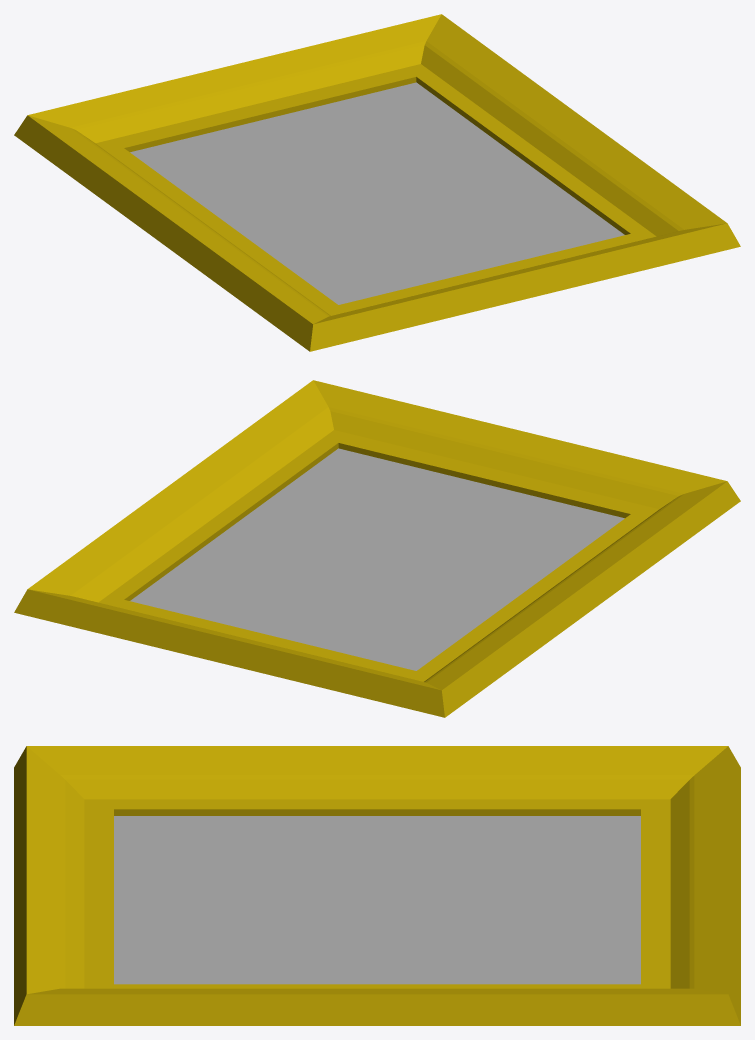
File: marco.fbx
3 renders of one model, top to bottom at view 1: azimuth 30°, elevation 25°; view 2: azimuth 150°, elevation 25°; view 3: azimuth 270°, elevation 25°, orthographic. The views are drawn at different scales.
Parts seen in each view (by area): view 1: pPlane1; view 2: pPlane1; view 3: pPlane1.
Part boxes in pixels (x1,y1,x2,y2): pPlane1: [14, 14, 740, 351]; pPlane1: [14, 380, 740, 717]; pPlane1: [14, 746, 740, 1025].
Size of the model in its own units: 1.47 by 0.0892 by 1.75.
